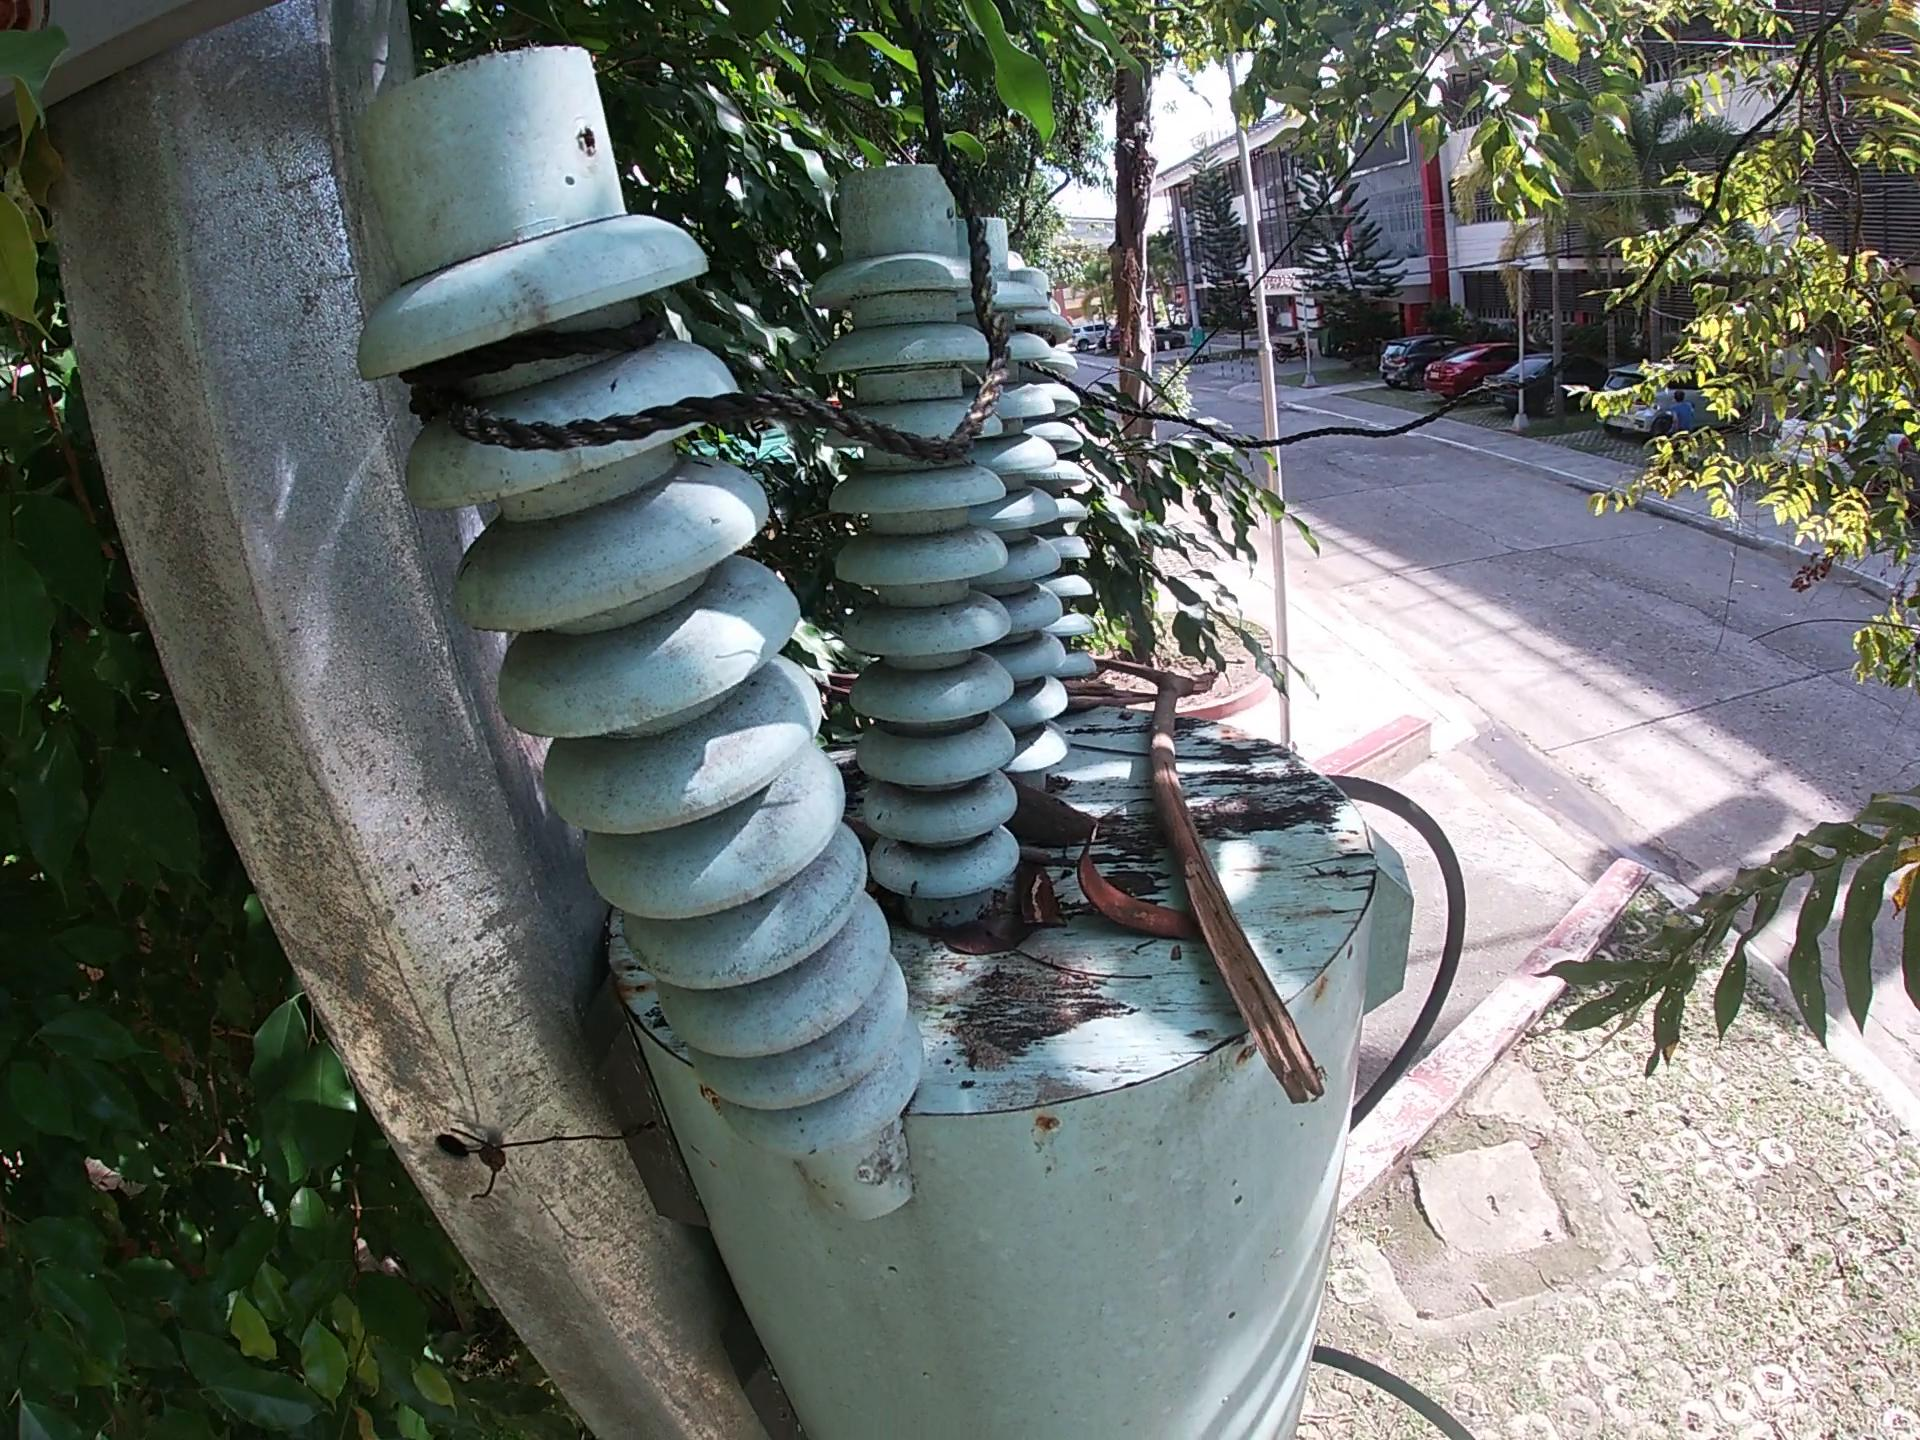leaf: (924, 911, 1023, 954)
mahogany fruit: (1064, 817, 1196, 962), (1016, 784, 1110, 843)
tree branch: (1092, 650, 1352, 1118), (1011, 950, 1169, 1001), (1066, 682, 1169, 714), (1019, 867, 1061, 929), (809, 666, 862, 703), (1073, 740, 1149, 765), (1178, 743, 1302, 756), (1016, 846, 1054, 873), (844, 815, 877, 843)
